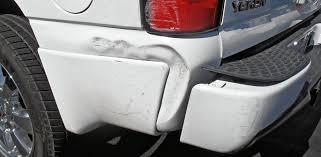rear-bumper-dent: (49, 19, 254, 143)
